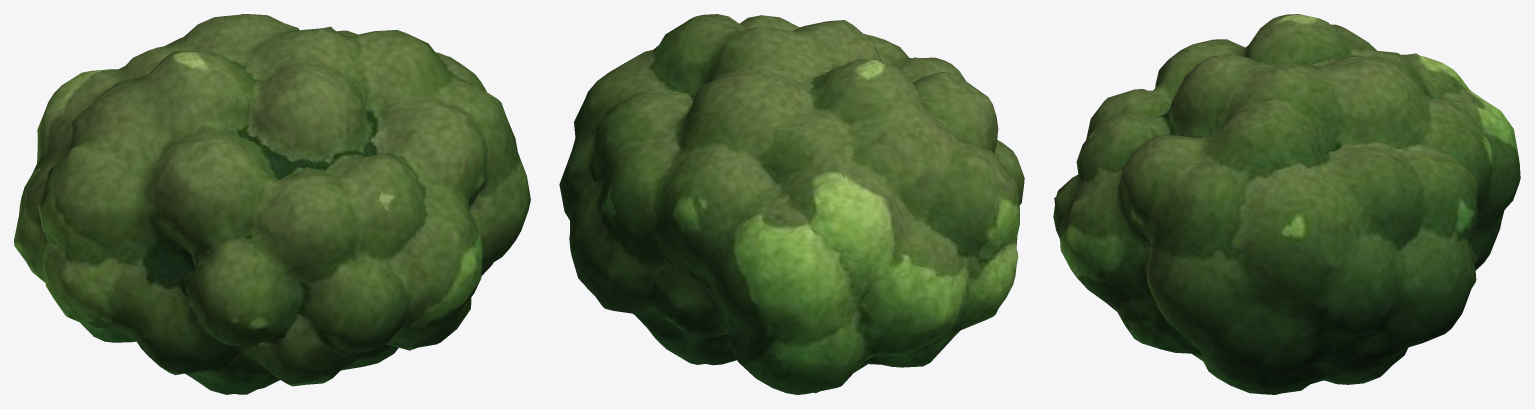
Rendered from bush_green.glb.
3 renders of one model, left to right at view 1: azimuth 30°, elevation 25°; view 2: azimuth 150°, elevation 25°; view 3: azimuth 270°, elevation 25°, orthographic. The views are drawn at different scales.
Parts seen in each view (by area): view 1: bush_green_low0; view 2: bush_green_low0; view 3: bush_green_low0.
Part boxes in pixels (x1,y1,x2,y2): bush_green_low0: [14, 14, 530, 394]; bush_green_low0: [559, 14, 1024, 394]; bush_green_low0: [1053, 14, 1520, 394].
Bounding box in the file's own units: 1.34 × 0.9828 × 1.32.
1 material, 1 textured.
